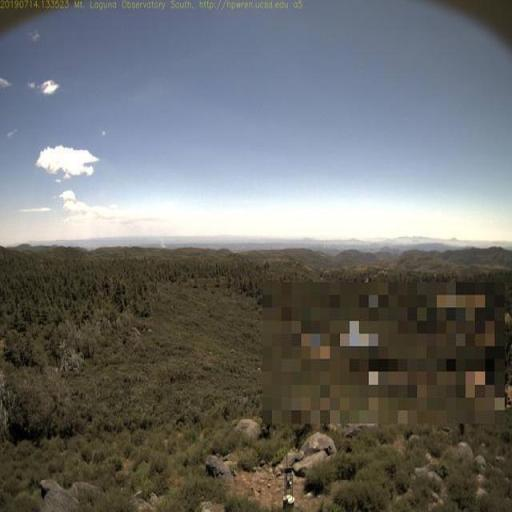smoke: (154, 227, 168, 250)
